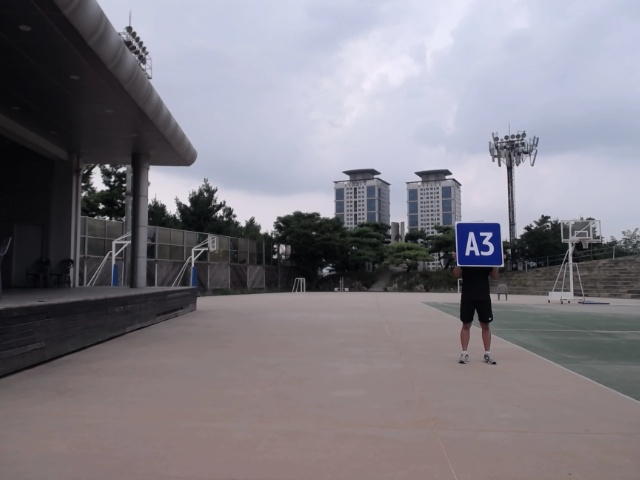delivery_a3: (455, 222, 503, 267)
